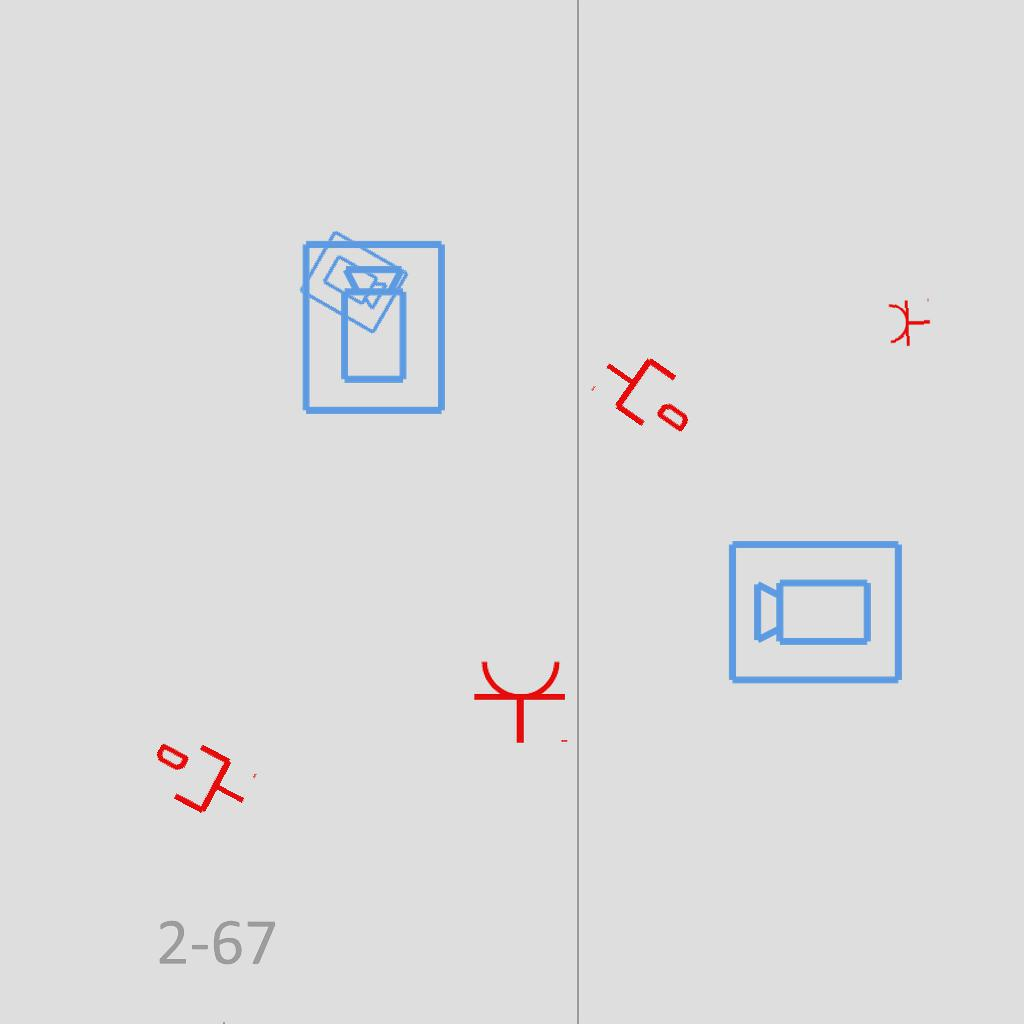Datenanschluss_einfach: (586, 336, 709, 450), (140, 724, 261, 832)
KFO_Kamera_mit_Festobjektiv: (725, 534, 907, 688), (298, 237, 452, 419), (294, 226, 413, 339)
Schukosteckdose_einfach: (472, 658, 572, 745), (887, 296, 932, 348)
